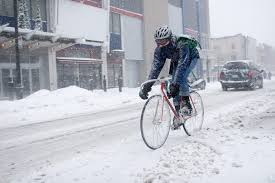Bicycle: (138, 75, 207, 150)
